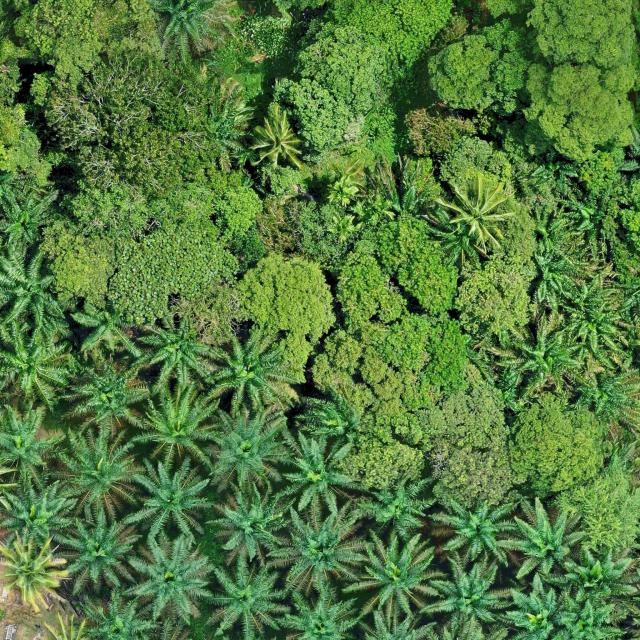Tree: (41, 46, 229, 202), (229, 249, 339, 384), (522, 62, 640, 163), (335, 526, 447, 624), (425, 18, 534, 116), (111, 530, 217, 630), (196, 325, 307, 420), (415, 544, 528, 633), (199, 398, 302, 494), (113, 455, 217, 547), (48, 505, 146, 598), (268, 505, 366, 595), (123, 384, 224, 471), (62, 345, 156, 437), (48, 428, 142, 518), (502, 498, 590, 594), (430, 484, 520, 572), (524, 0, 640, 68), (270, 428, 354, 518), (210, 476, 294, 563), (38, 220, 118, 311), (0, 320, 76, 414), (203, 559, 290, 639), (0, 398, 67, 496), (550, 541, 638, 615), (438, 171, 518, 252), (511, 310, 587, 395), (0, 474, 80, 554), (0, 238, 68, 332), (134, 309, 215, 385), (0, 534, 72, 614), (142, 0, 228, 64), (360, 471, 438, 541), (277, 578, 363, 640), (564, 359, 640, 429), (402, 100, 494, 155), (506, 569, 577, 640), (73, 298, 146, 361), (0, 179, 59, 249), (247, 105, 308, 171), (36, 609, 95, 640)
